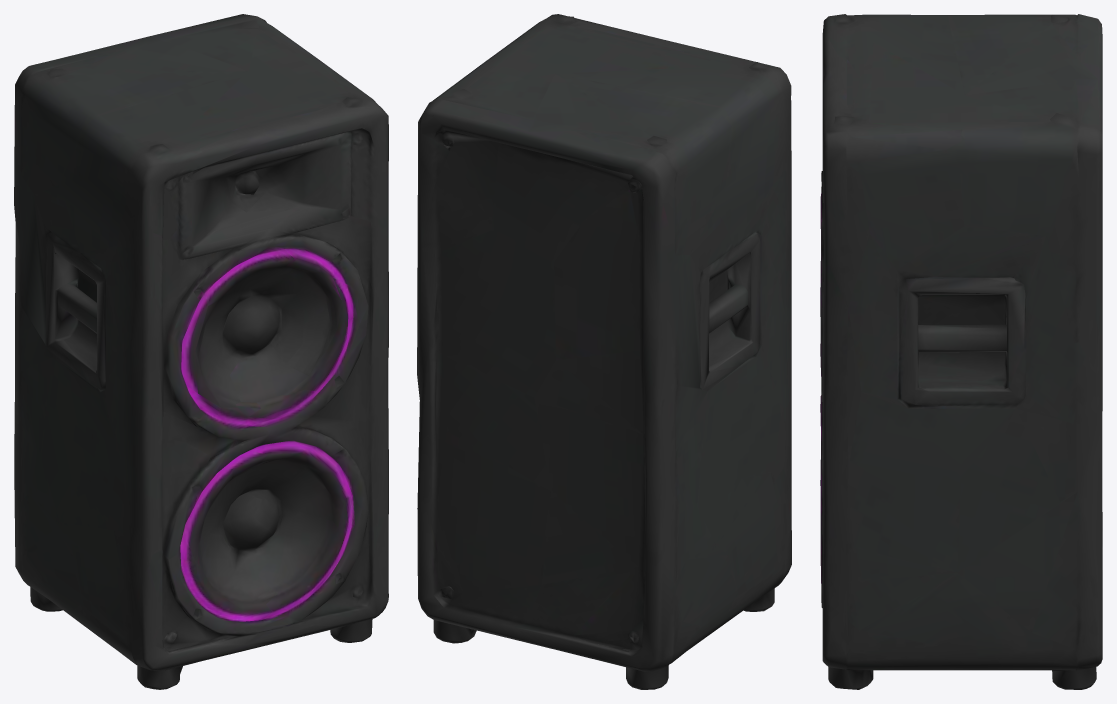
The model's file is speaker.glb.
3 renders of one model, left to right at view 1: azimuth 30°, elevation 25°; view 2: azimuth 150°, elevation 25°; view 3: azimuth 270°, elevation 25°, orthographic. The views are drawn at different scales.
Parts seen in each view (by area): view 1: tripo_node_e9b5534e-57c3-4eb5-a5c3-d4628e1cfb4a; view 2: tripo_node_e9b5534e-57c3-4eb5-a5c3-d4628e1cfb4a; view 3: tripo_node_e9b5534e-57c3-4eb5-a5c3-d4628e1cfb4a.
Boxes of the visible parts, box(x1,y1,x2,y2) form: tripo_node_e9b5534e-57c3-4eb5-a5c3-d4628e1cfb4a: box(14, 14, 388, 689); tripo_node_e9b5534e-57c3-4eb5-a5c3-d4628e1cfb4a: box(417, 14, 791, 689); tripo_node_e9b5534e-57c3-4eb5-a5c3-d4628e1cfb4a: box(820, 14, 1102, 689).
Bounding box in the file's own units: 0.4827 × 0.9782 × 0.4429.
1 material, 1 textured.
